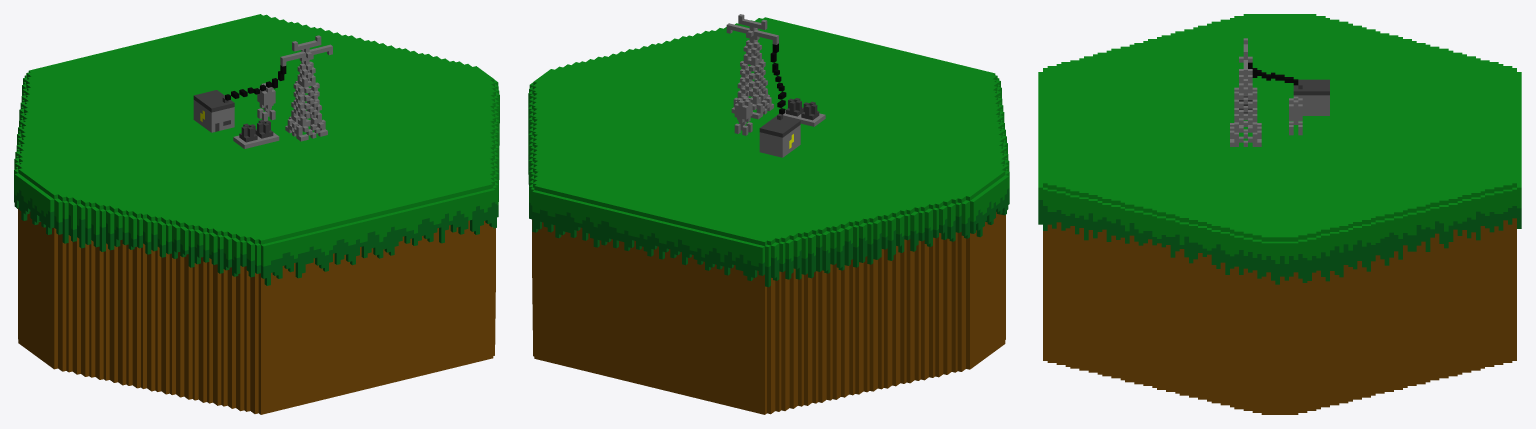
Rendered from supply_hex_plain.obj.
3 views of the same model, side by side, from view 1: azimuth 30°, elevation 25°; view 2: azimuth 150°, elevation 25°; view 3: azimuth 270°, elevation 25° (orthographic). The views are drawn at different scales.
Bounding box in the file's own units: 11.8 × 6.6 × 10.6.
Materials: 1 (1 with a texture image).
